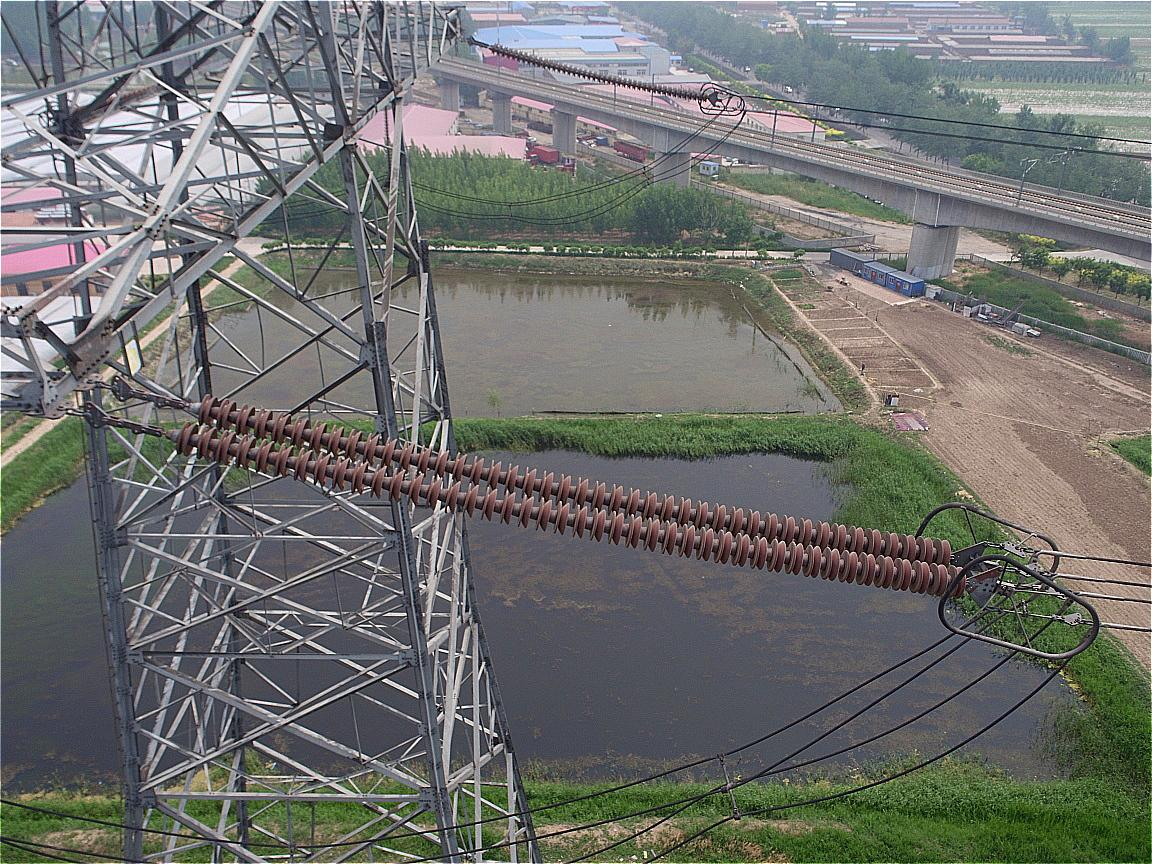insultor2: (160, 380, 991, 616), (483, 24, 710, 111)
